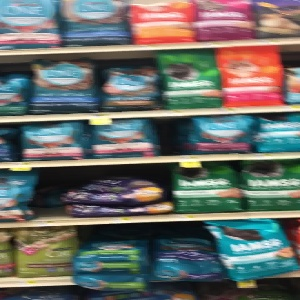void: (32, 165, 68, 218), (154, 117, 192, 157)
